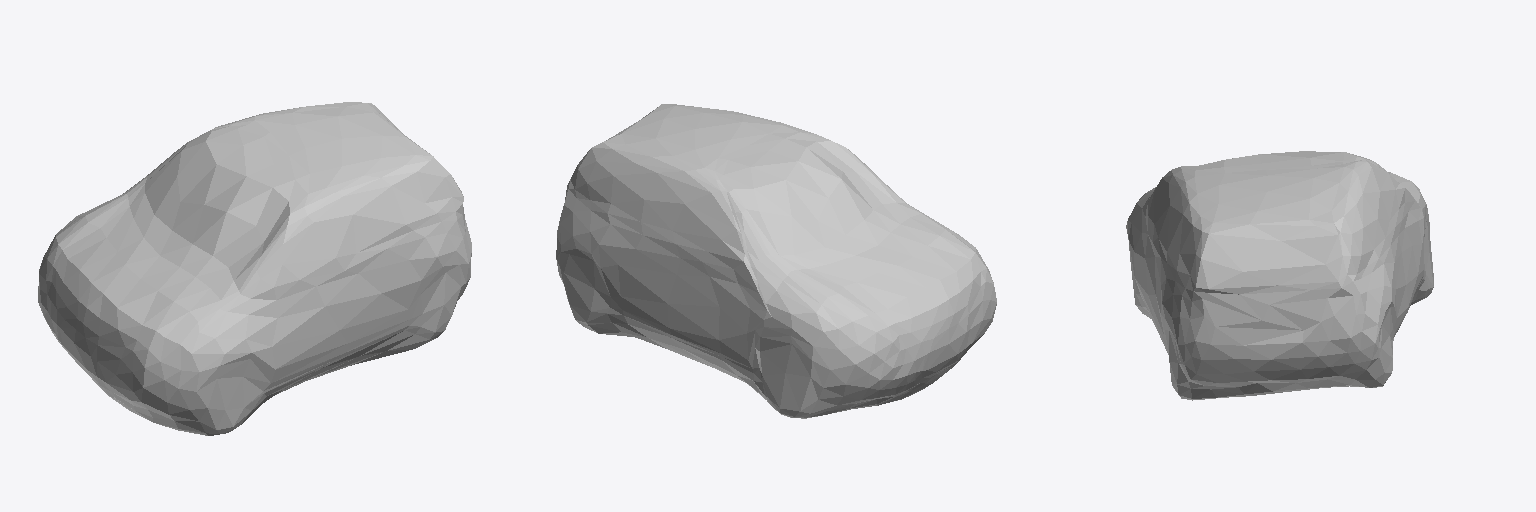
The model's file is video3_14.obj.
3 views of the same model, side by side, from view 1: azimuth 30°, elevation 25°; view 2: azimuth 150°, elevation 25°; view 3: azimuth 270°, elevation 25° (orthographic).
Bounding box in the file's own units: 1 × 0.5536 × 0.7322.